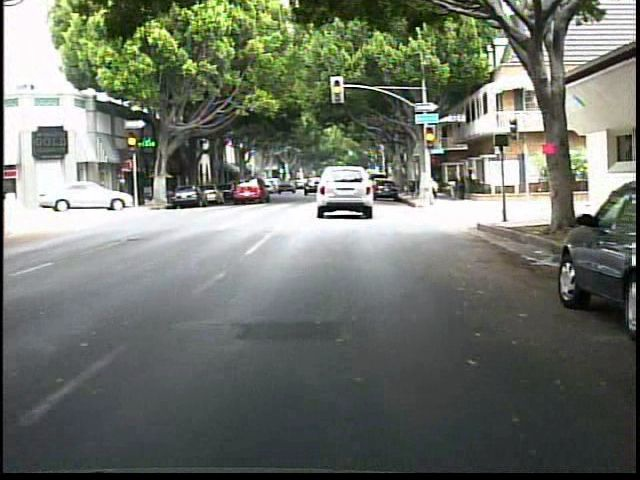person: (419, 171, 440, 210), (454, 167, 468, 204), (445, 168, 459, 202), (466, 163, 477, 196)
